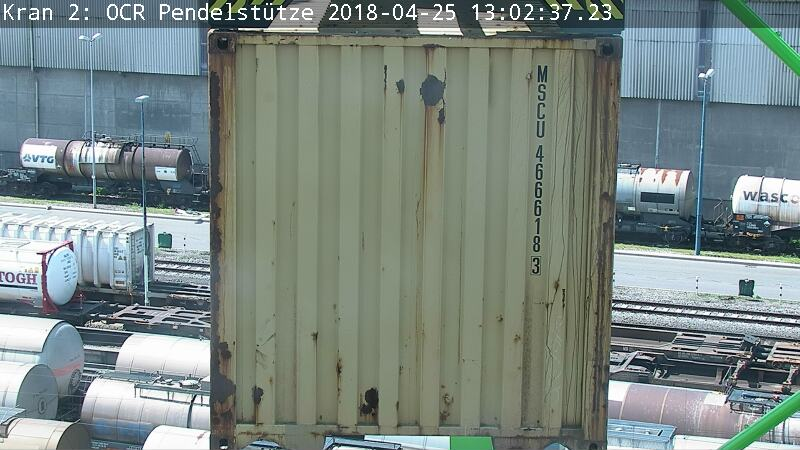container_no_door: (197, 29, 609, 448)
